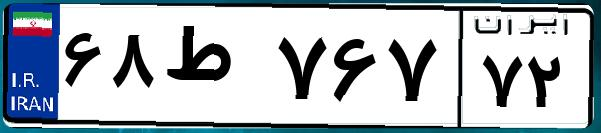2: (525, 38, 570, 115)
6: (330, 28, 385, 110), (57, 26, 110, 100)
7: (270, 28, 330, 110), (385, 28, 445, 110), (475, 38, 525, 113)
8: (110, 28, 158, 98)
ط: (158, 20, 270, 120)
